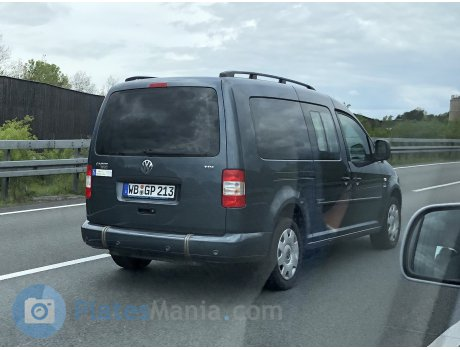License Plates: (122, 181, 179, 200)
